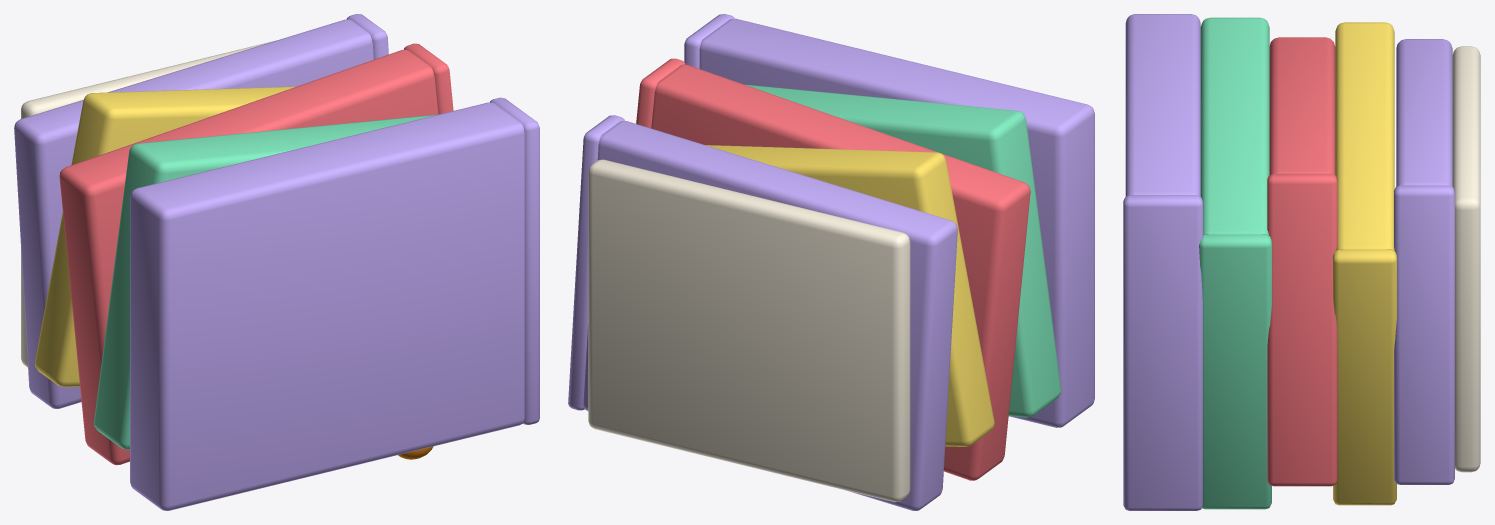
File: LoftBookStack_Premium.fbx
3 views of the same model, side by side, from view 1: azimuth 30°, elevation 25°; view 2: azimuth 150°, elevation 25°; view 3: azimuth 270°, elevation 25° (orthographic). The views are drawn at different scales.
Visible parts, largest first — view 1: LoftBookStack; view 2: LoftBookStack; view 3: LoftBookStack.
Boxes of the visible parts, left/top/right/bottom form: LoftBookStack: left=14, top=14, right=539, bottom=510; LoftBookStack: left=568, top=14, right=1094, bottom=510; LoftBookStack: left=1123, top=14, right=1480, bottom=510.
Size of the model in its own units: 0.5942 by 0.4953 by 0.457.
